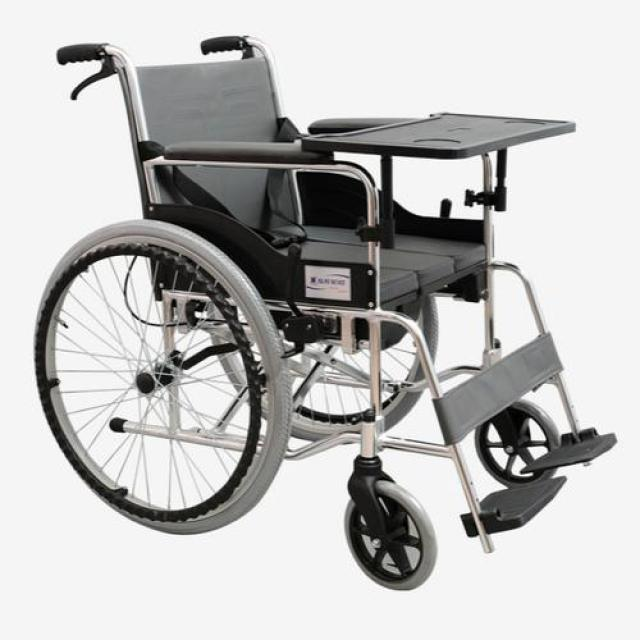wheelchairs: (24, 28, 622, 604)
